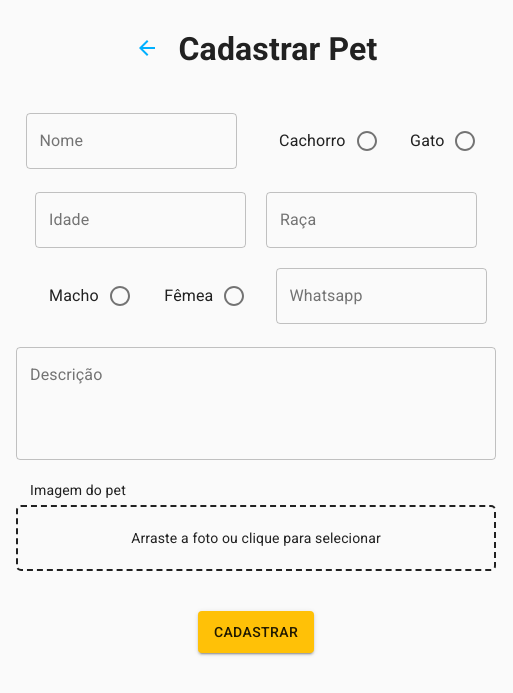
Test: Add pet page (direct interaction) › should not allow users to register a pet without a name
This screenshot has width=513, height=693.
Expected: the text "Campo obrigatório" is not shown
Step 1. Click the icon with test id "type-dog" → (367, 141), box [355,129,379,153]
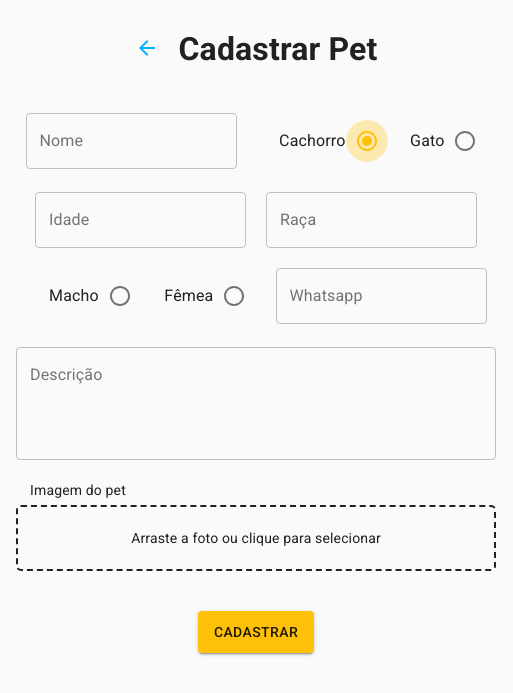
Step 2. Type "10" into the element with test id "age" → (141, 220), box [35,192,246,248]
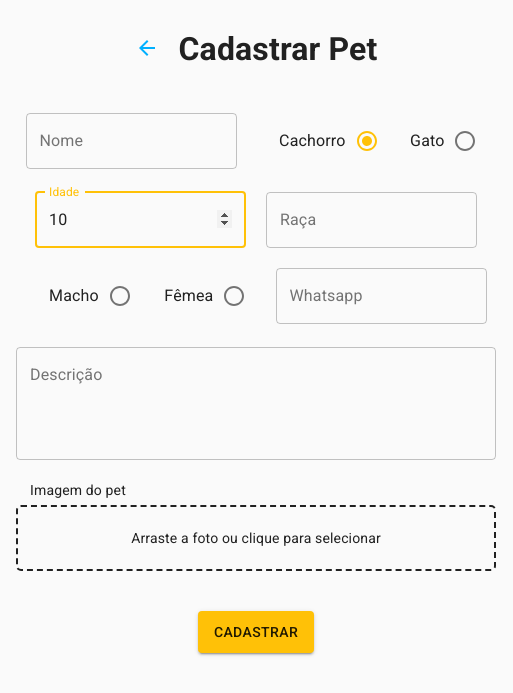
Step 3. Type "Pastor alemão" into the element with test id "breed" → (372, 220), box [266,192,477,248]
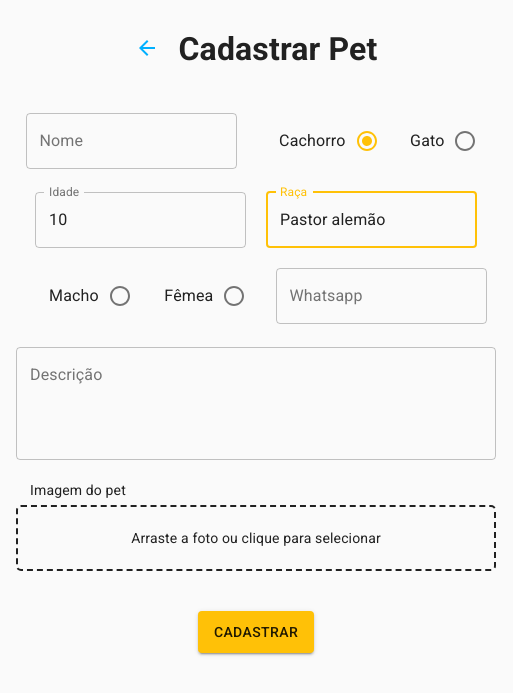
Step 4. Click the icon with test id "sex-male" → (120, 296), box [108,284,132,308]
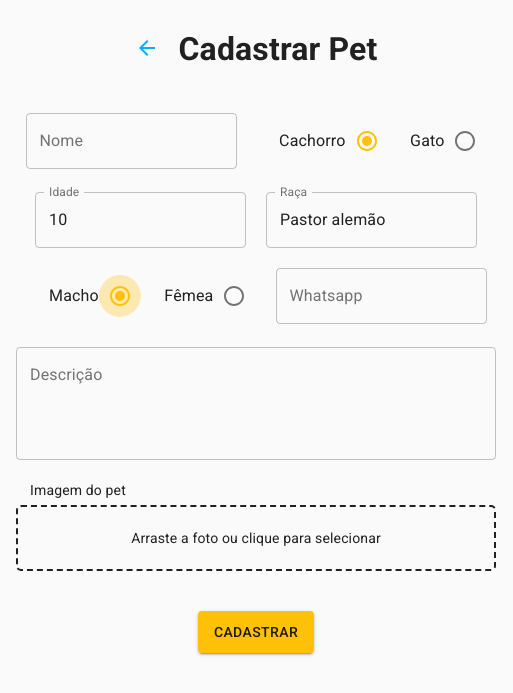
Step 5. Type "83996481242" into the element with test id "phone" → (382, 298), box [276,268,487,327]
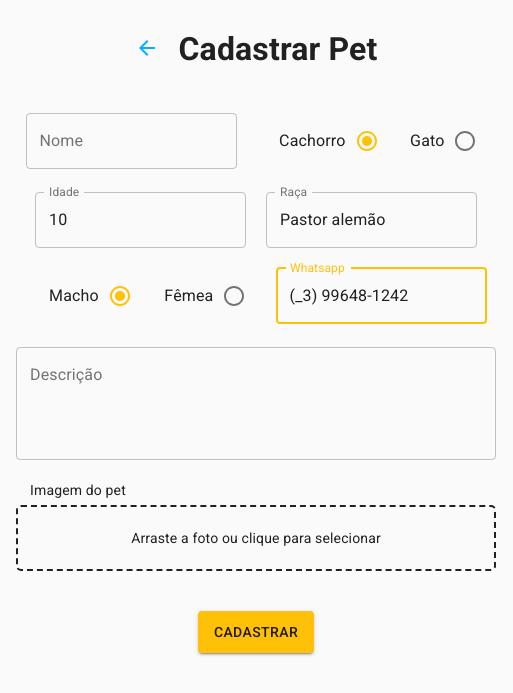
Step 6. Click the button with test id "submit-button" → (256, 632), box [198,611,314,653]
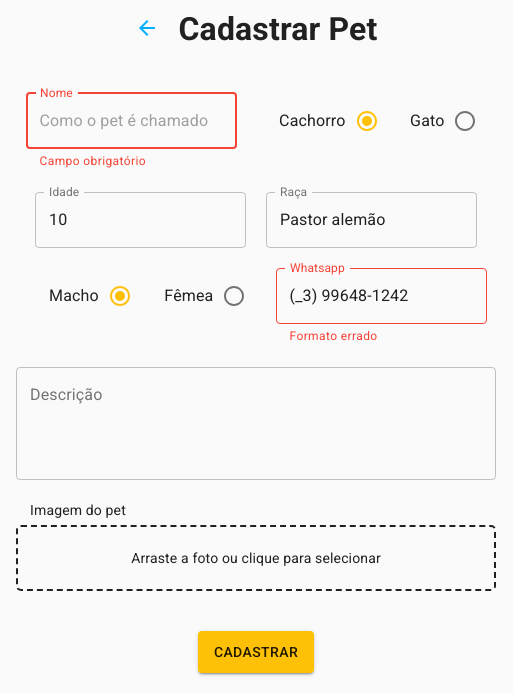
Expected: the text "Campo obrigatório" is shown, [40,154,146,168]
